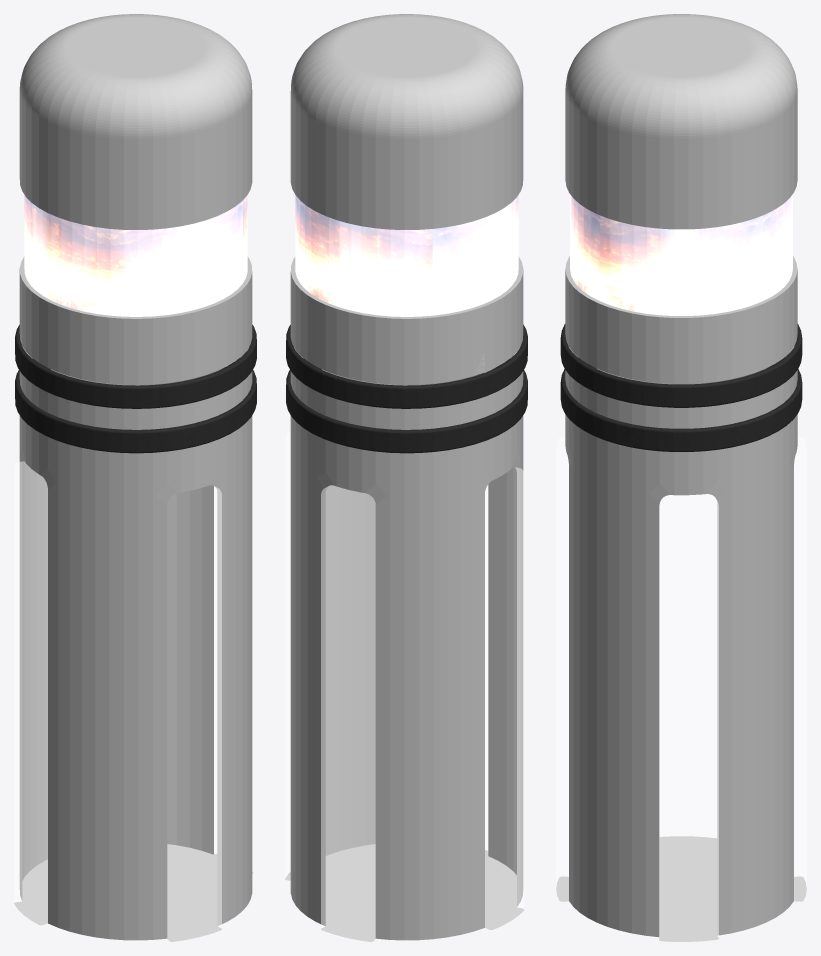
The model's file is helper-bot.gltf.
The picture shows the model from 3 angles, left to right: view 1: azimuth 30°, elevation 25°; view 2: azimuth 150°, elevation 25°; view 3: azimuth 270°, elevation 25°; orthographic projection.
Visible parts, largest first — view 1: Cylinder, Lightbar 2, Screen, Lightbar 3, Bottom Speaker, Top Speaker, Lightbar 1; view 2: Cylinder, Lightbar 4, Screen, Lightbar 3, Bottom Speaker, Top Speaker, Lightbar 1, Lightbar 2; view 3: Cylinder, Lightbar 1, Lightbar 3, Screen, Bottom Speaker, Top Speaker, Lightbar 2, Lightbar 4.
Part boxes in pixels (<box>): Cylinder: <box>14,14,253,941</box>; Lightbar 2: <box>167,485,221,941</box>; Screen: <box>24,195,247,316</box>; Lightbar 3: <box>14,461,47,924</box>; Bottom Speaker: <box>15,358,256,453</box>; Top Speaker: <box>15,324,256,408</box>; Lightbar 1: <box>214,434,252,872</box>; Cylinder: <box>285,14,524,941</box>; Lightbar 4: <box>321,485,375,941</box>; Screen: <box>295,195,518,316</box>; Lightbar 3: <box>485,467,523,929</box>; Bottom Speaker: <box>286,358,527,453</box>; Top Speaker: <box>286,324,527,408</box>; Lightbar 1: <box>285,430,290,880</box>; Lightbar 2: <box>485,486,487,849</box>; Cylinder: <box>556,14,806,941</box>; Lightbar 1: <box>659,494,718,941</box>; Lightbar 3: <box>660,494,716,837</box>; Screen: <box>570,194,792,315</box>; Bottom Speaker: <box>560,357,802,451</box>; Top Speaker: <box>560,324,802,407</box>; Lightbar 2: <box>556,437,568,901</box>; Lightbar 4: <box>794,437,806,901</box>.
Bounding box in the file's own units: 0.5389 × 2 × 0.54.
Materials: 4 (1 with a texture image).
